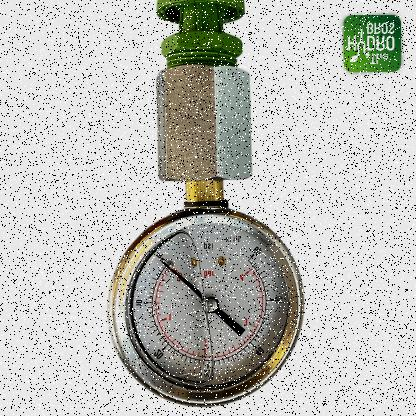needle: (160, 260, 207, 302)
